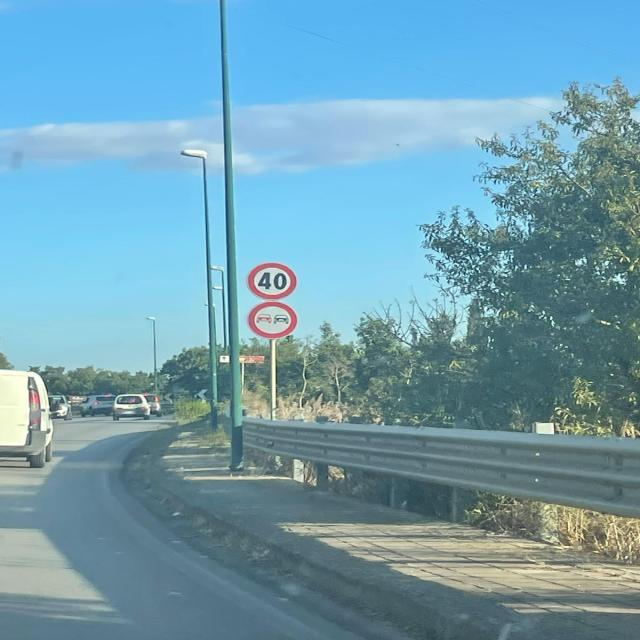forb_overtake: (248, 302, 299, 340)
forb_speed_over_40: (247, 262, 298, 302)
